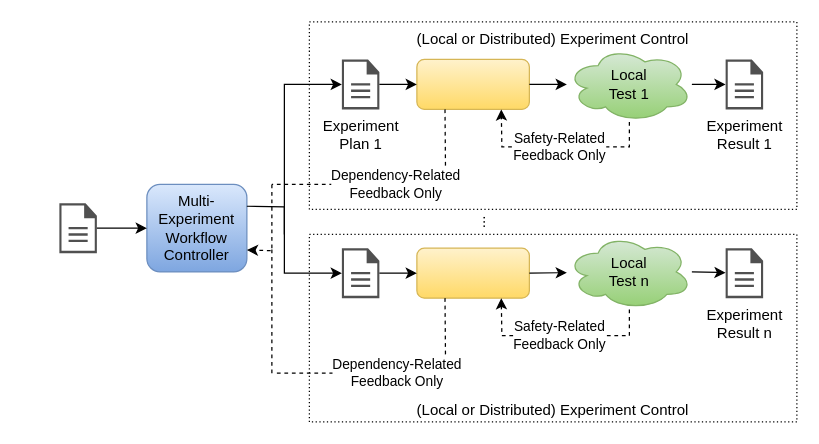
This 819x444 diagram has some shape labels left out. The shapes that lost their labels are listed below. From the top down, each one's centre as x and y in pixels, then its label:
At point (472, 83): "Experiment Controller 1".
At point (77, 227): "Multi-Experiment Workflow Plan".
At point (360, 273): "Experiment Plan n".
At point (472, 272): "Experiment Controller n".
